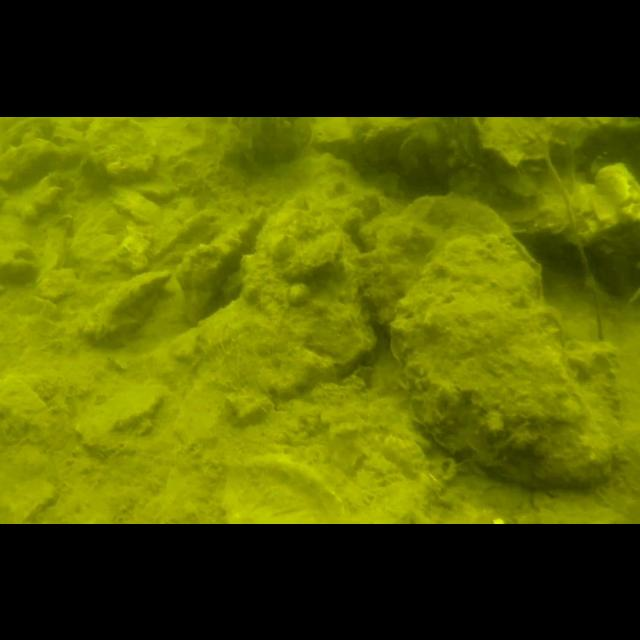Oyster-Closed: (389, 232, 613, 490), (358, 190, 512, 322), (176, 208, 268, 324), (222, 451, 346, 524), (78, 270, 172, 344), (81, 116, 160, 184), (286, 230, 342, 284)
Oyster-Open: (448, 158, 566, 236), (561, 159, 640, 245), (0, 239, 40, 279)
